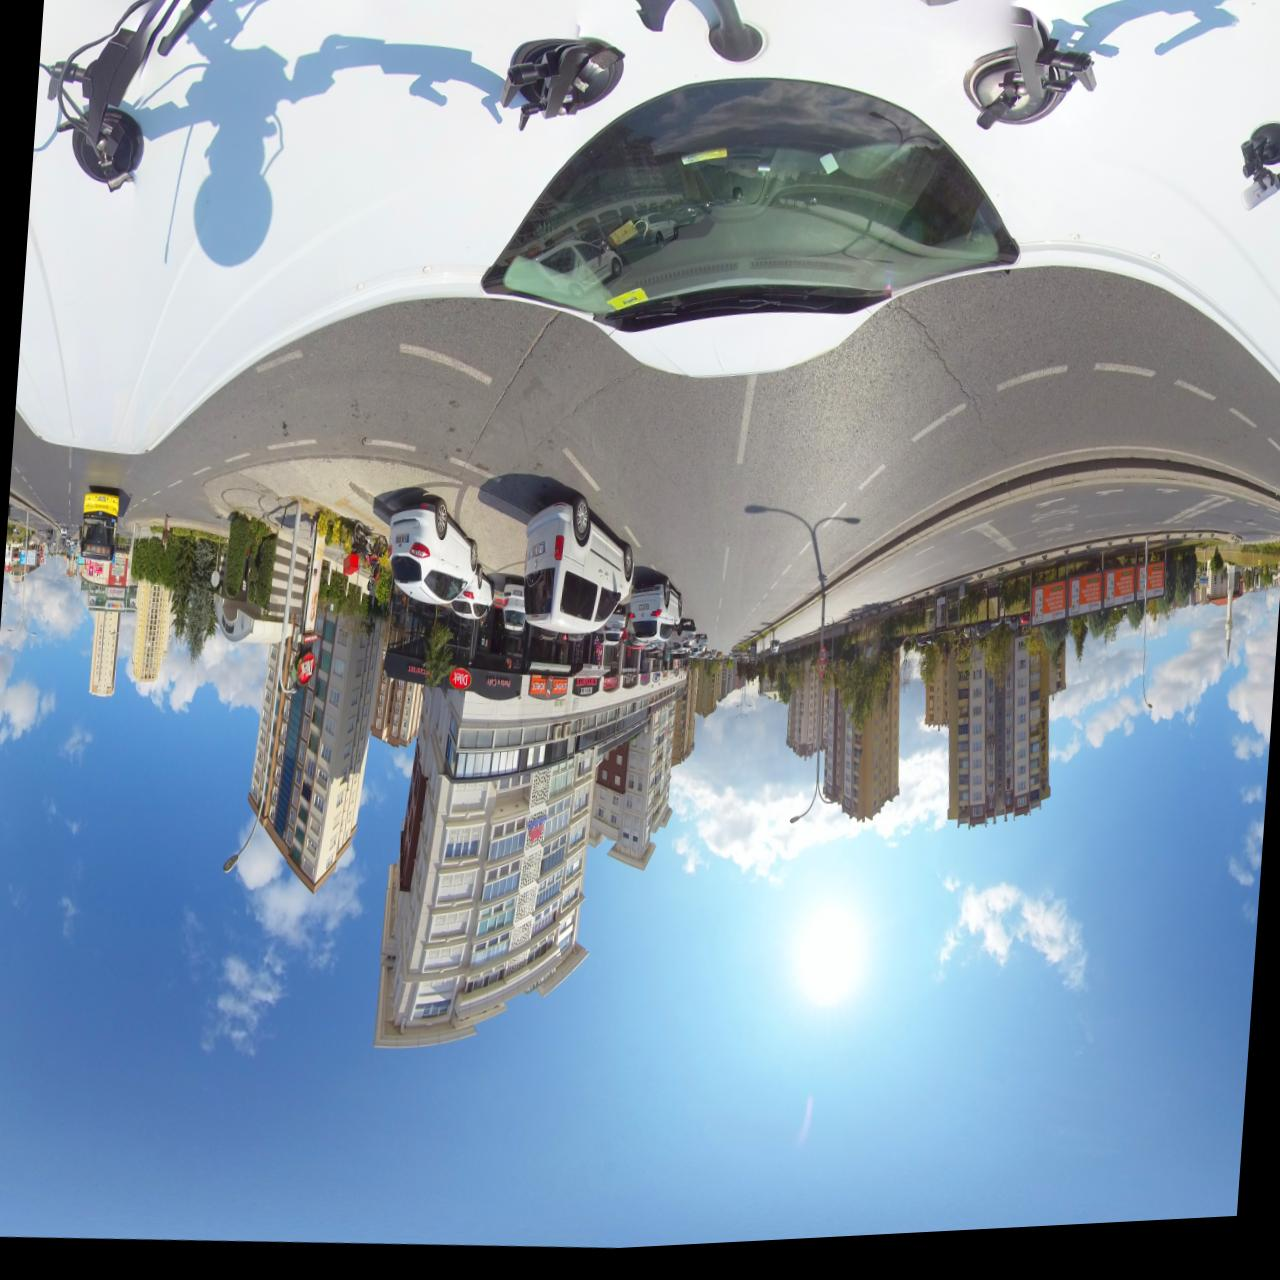SignStore: (448, 670, 522, 706), (527, 680, 567, 706), (571, 682, 599, 701), (621, 680, 635, 694), (601, 683, 617, 695), (640, 680, 649, 692), (652, 678, 660, 688), (115, 553, 128, 559), (660, 678, 667, 686)
